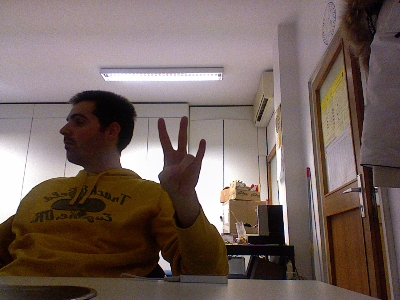观音: (155, 114, 208, 197)
